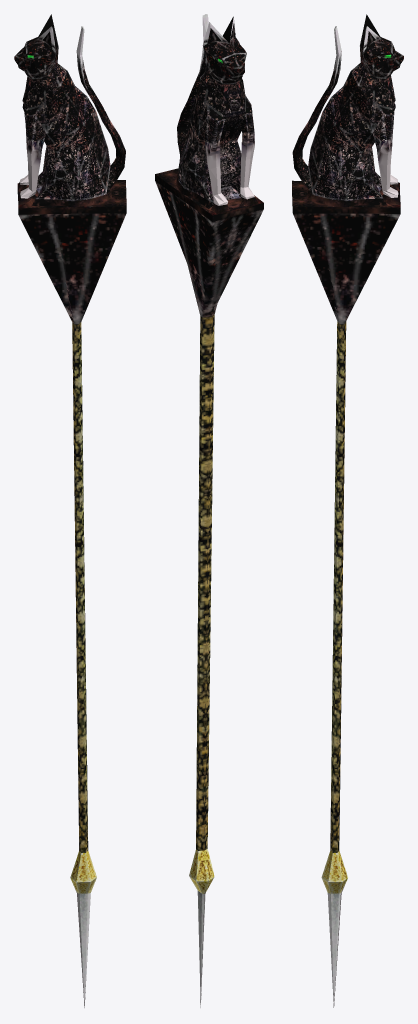
The model's file is curse_cat_staff_aae84fbd.glb.
3 views of the same model, side by side, from view 1: azimuth 90°, elevation 25°; view 2: azimuth 210°, elevation 25°; view 3: azimuth 270°, elevation 25° (orthographic).
Bounding box in the file's own units: 0.239 × 4.08 × 0.419.
Materials: 1 (1 with a texture image).
